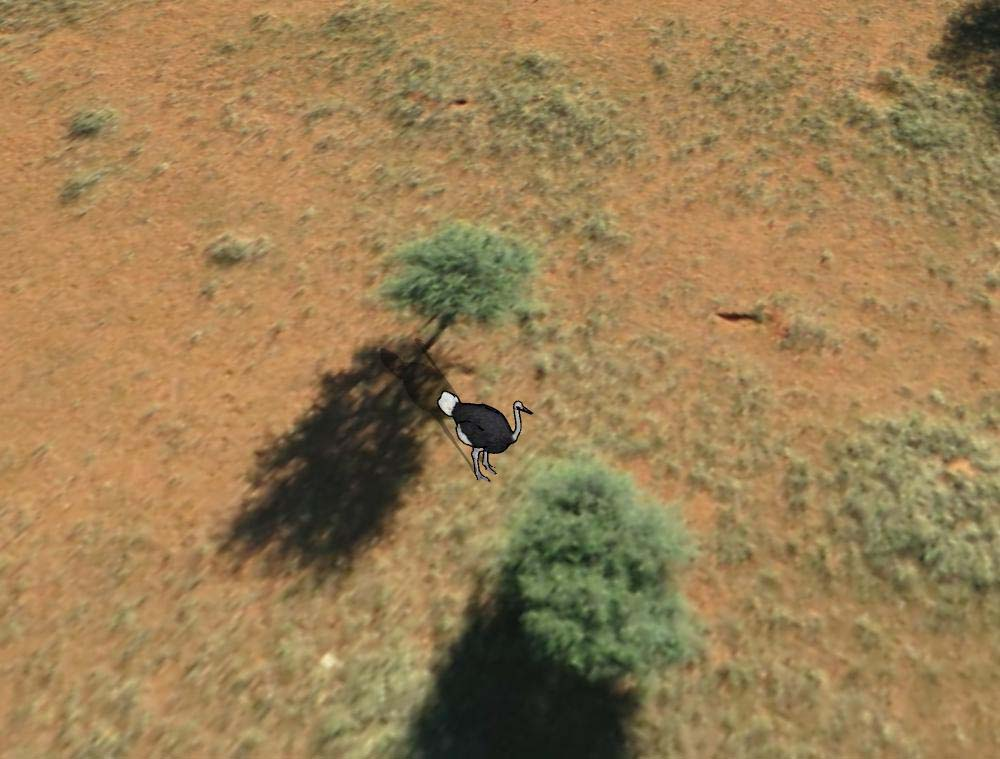ostrich: (438, 385, 535, 486)
